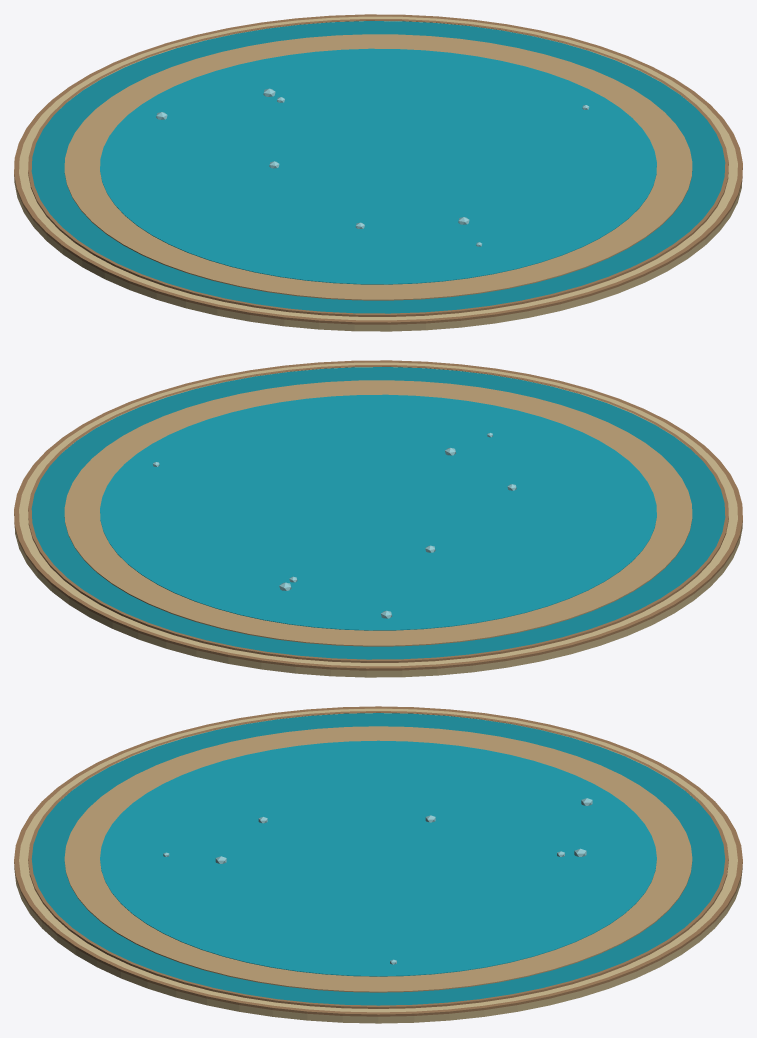
Rendered from goo_jar_foot@beach.fbx.
3 renders of one model, top to bottom at view 1: azimuth 30°, elevation 25°; view 2: azimuth 150°, elevation 25°; view 3: azimuth 270°, elevation 25°, orthographic.
Visible parts, largest first — view 1: goo_jar_foot; view 2: goo_jar_foot; view 3: goo_jar_foot.
Part boxes in pixels (x1,y1,x2,y2): goo_jar_foot: (14,14,742,331); goo_jar_foot: (14,360,742,677); goo_jar_foot: (14,706,742,1023).
Bounding box in the file's own units: 80.1 × 2.08 × 80.1.
